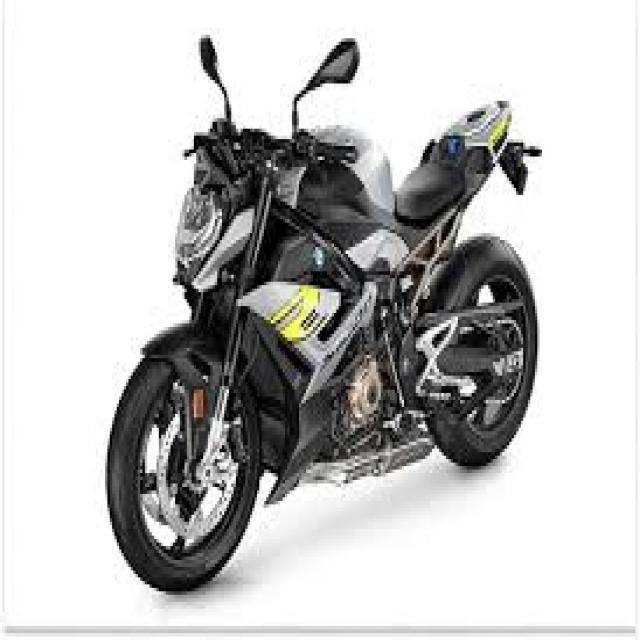Bike: (104, 34, 544, 595)
